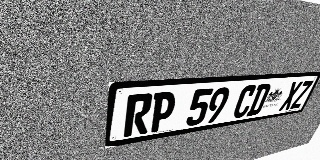5: (185, 88, 214, 127)
9: (204, 87, 232, 124)
C: (231, 85, 258, 119)
D: (246, 83, 272, 117)
P: (148, 91, 178, 133)
R: (123, 93, 154, 137)
X: (278, 81, 303, 111)
Z: (290, 80, 314, 109)
